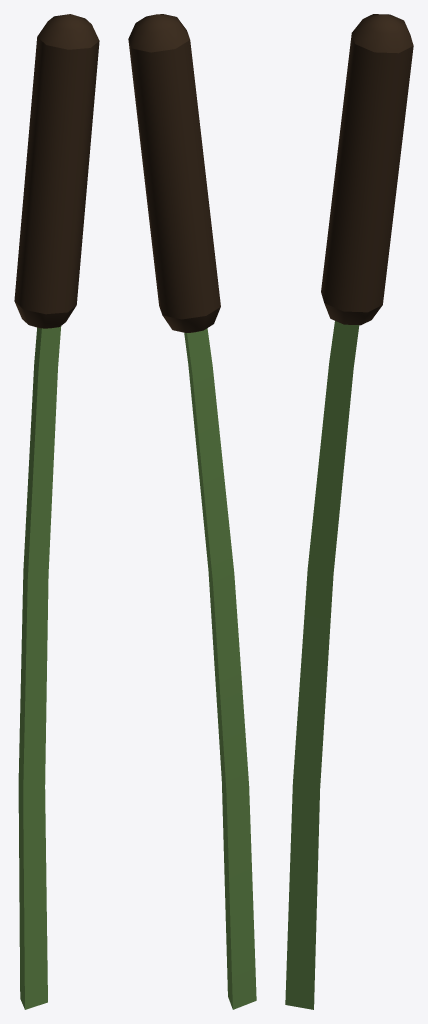
Rendered from plant_cattail_solo_F_twig.fbx.
The picture shows the model from 3 angles, left to right: view 1: azimuth 30°, elevation 25°; view 2: azimuth 150°, elevation 25°; view 3: azimuth 330°, elevation 25°; orthographic projection. The views are drawn at different scales.
Parts seen in each view (by area): view 1: plant_cattail_solo_F_leaf, plant_cattail_solo_F_twig; view 2: plant_cattail_solo_F_leaf, plant_cattail_solo_F_twig; view 3: plant_cattail_solo_F_leaf, plant_cattail_solo_F_twig.
Part boxes in pixels (left/top/right/bottom): plant_cattail_solo_F_leaf: left=14, top=14, right=99, bottom=328; plant_cattail_solo_F_twig: left=18, top=326, right=61, bottom=1009; plant_cattail_solo_F_leaf: left=128, top=14, right=220, bottom=332; plant_cattail_solo_F_twig: left=184, top=328, right=256, bottom=1009; plant_cattail_solo_F_leaf: left=321, top=14, right=413, bottom=325; plant_cattail_solo_F_twig: left=285, top=321, right=359, bottom=1009.
Size of the model in its own units: 9.06 by 87.59 by 6.72.
